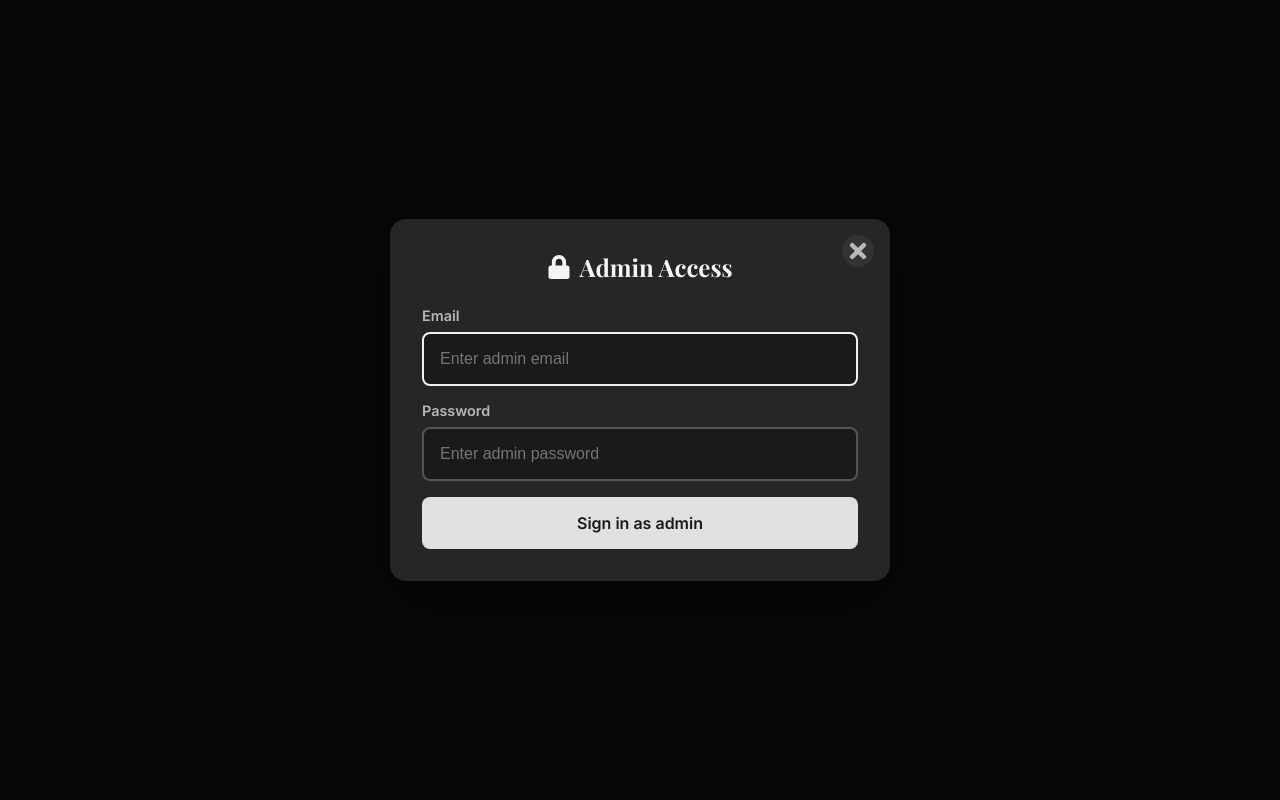
Test: AdminPanel › Admin sign-in screen › should show error for failed sign-in
The width and height of the screenshot is (1280, 800).
Type "admin@example.com" into the field with placeholder "Enter admin email" at (640, 359), box left=422, top=332, right=858, bottom=386
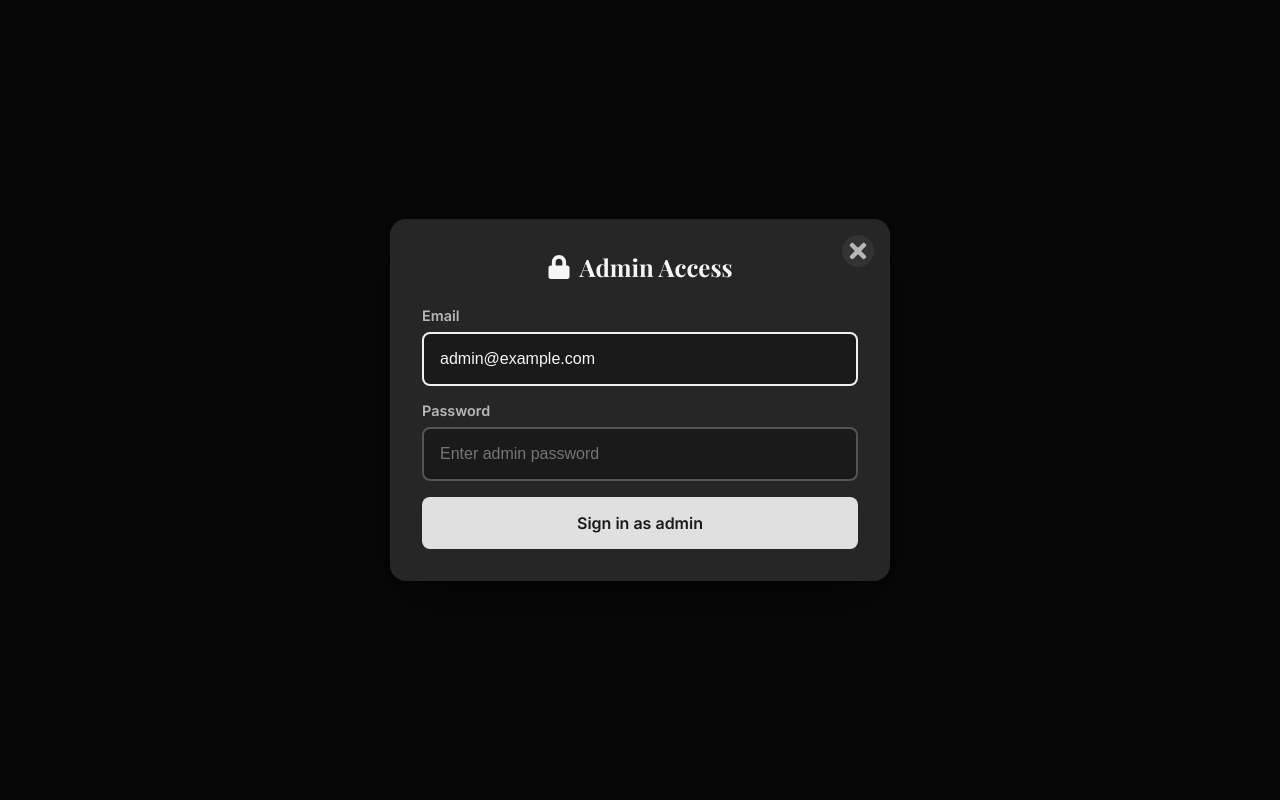
Type "wrongpassword" into the password field with placeholder "Enter admin password" at (640, 454), box left=422, top=427, right=858, bottom=481
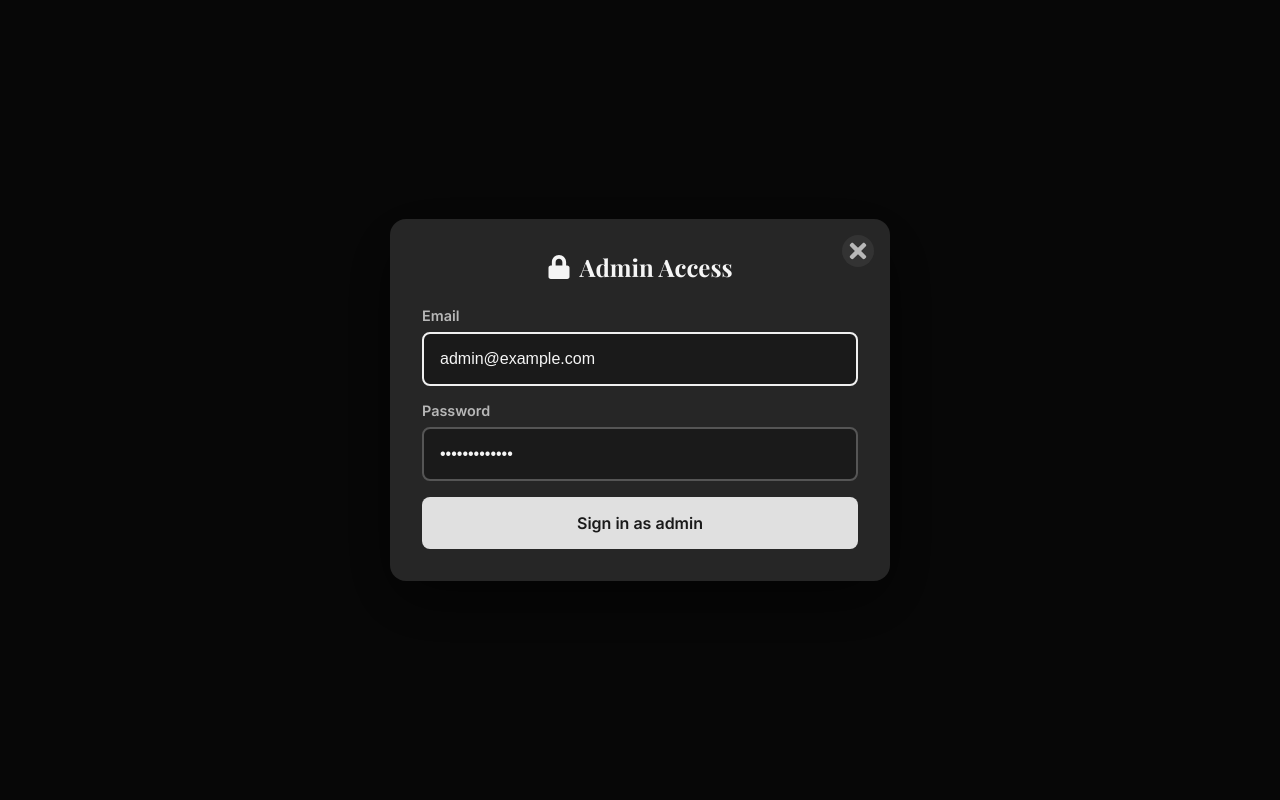
Click the button "Sign in as admin" at (640, 523), box left=422, top=497, right=858, bottom=549
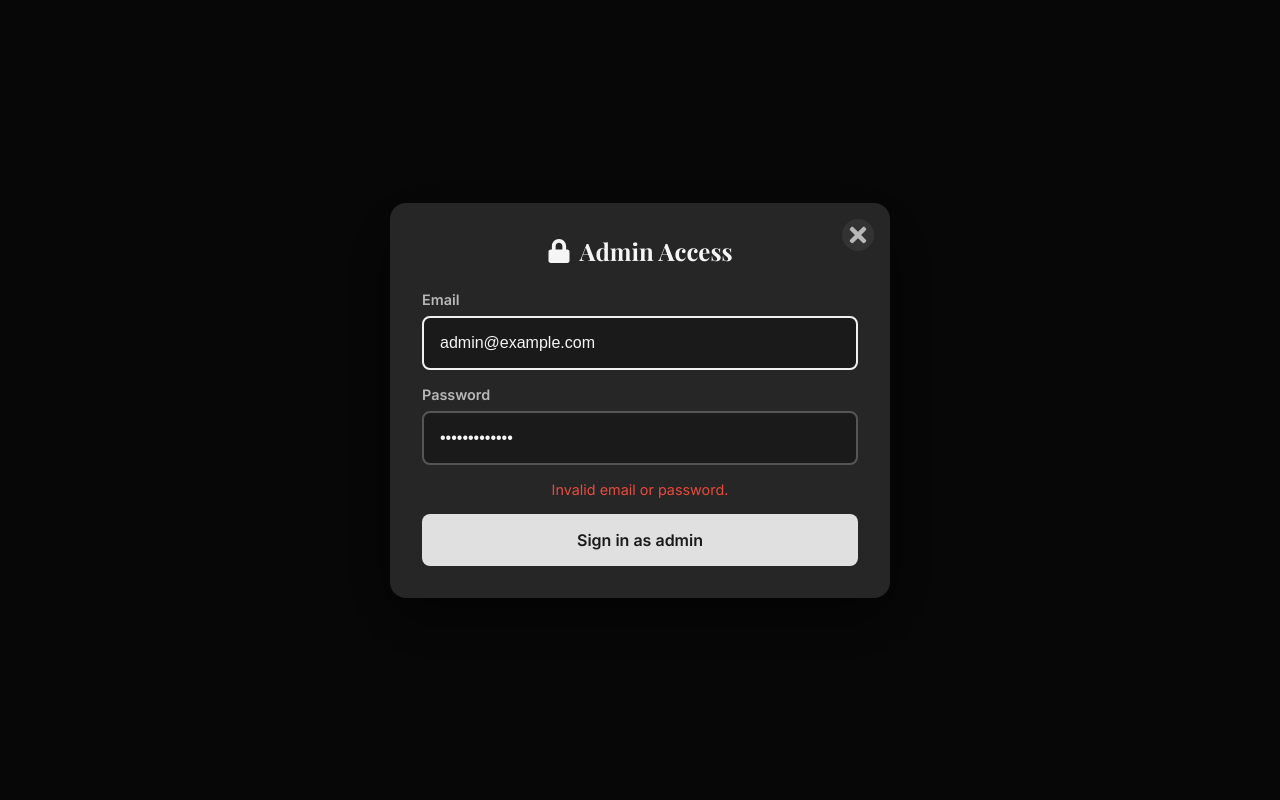
Expected: the text "Invalid email or password." is shown, left=552, top=480, right=728, bottom=498
